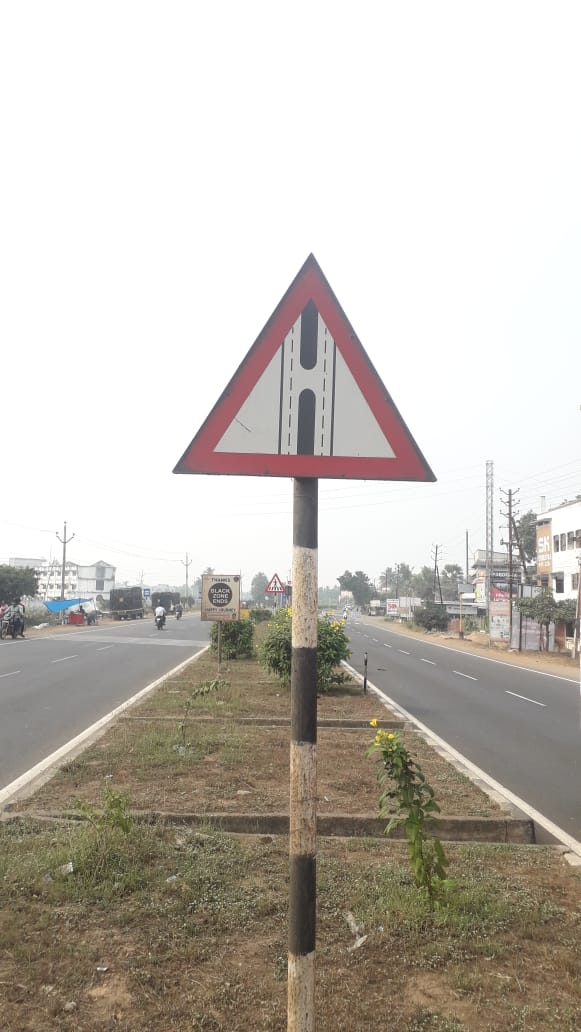highway go straight: (131, 227, 449, 510)
